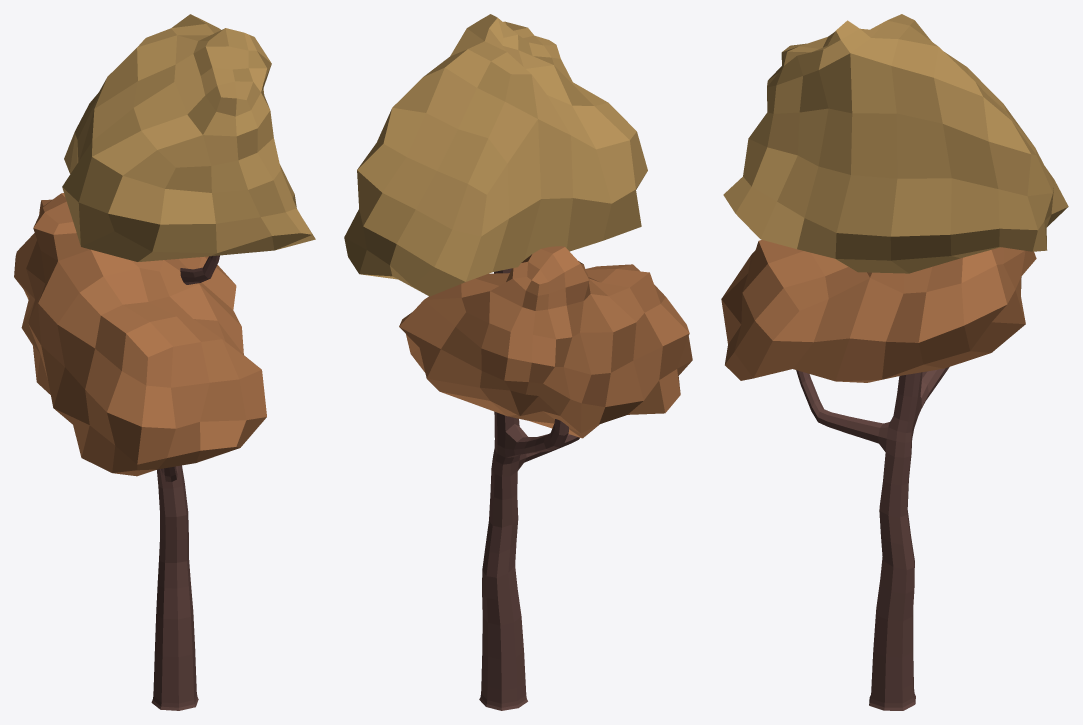
Rendered from commontree_autumn3.glb.
3 renders of one model, left to right at view 1: azimuth 30°, elevation 25°; view 2: azimuth 150°, elevation 25°; view 3: azimuth 270°, elevation 25°, orthographic. The views are drawn at different scales.
Visible parts, largest first — view 1: CommonTree_Autumn_3; view 2: CommonTree_Autumn_3; view 3: CommonTree_Autumn_3.
Part boxes in pixels (left/top/right/bottom): CommonTree_Autumn_3: left=14, top=14, right=315, bottom=710; CommonTree_Autumn_3: left=344, top=14, right=692, bottom=710; CommonTree_Autumn_3: left=721, top=14, right=1068, bottom=710.
Bounding box in the file's own units: 1.28 × 3.46 × 1.56.
